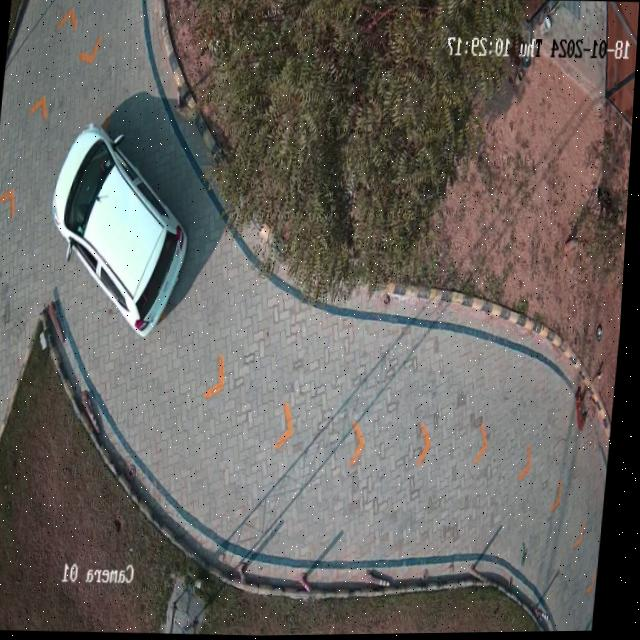car: (53, 124, 190, 336)
